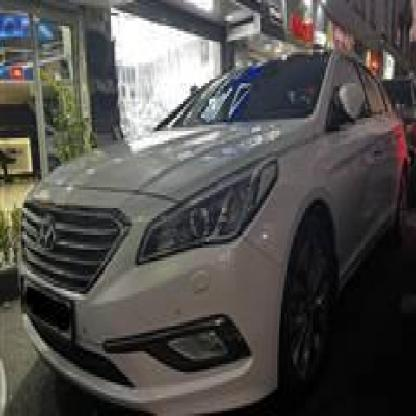Car: (0, 41, 407, 416)
